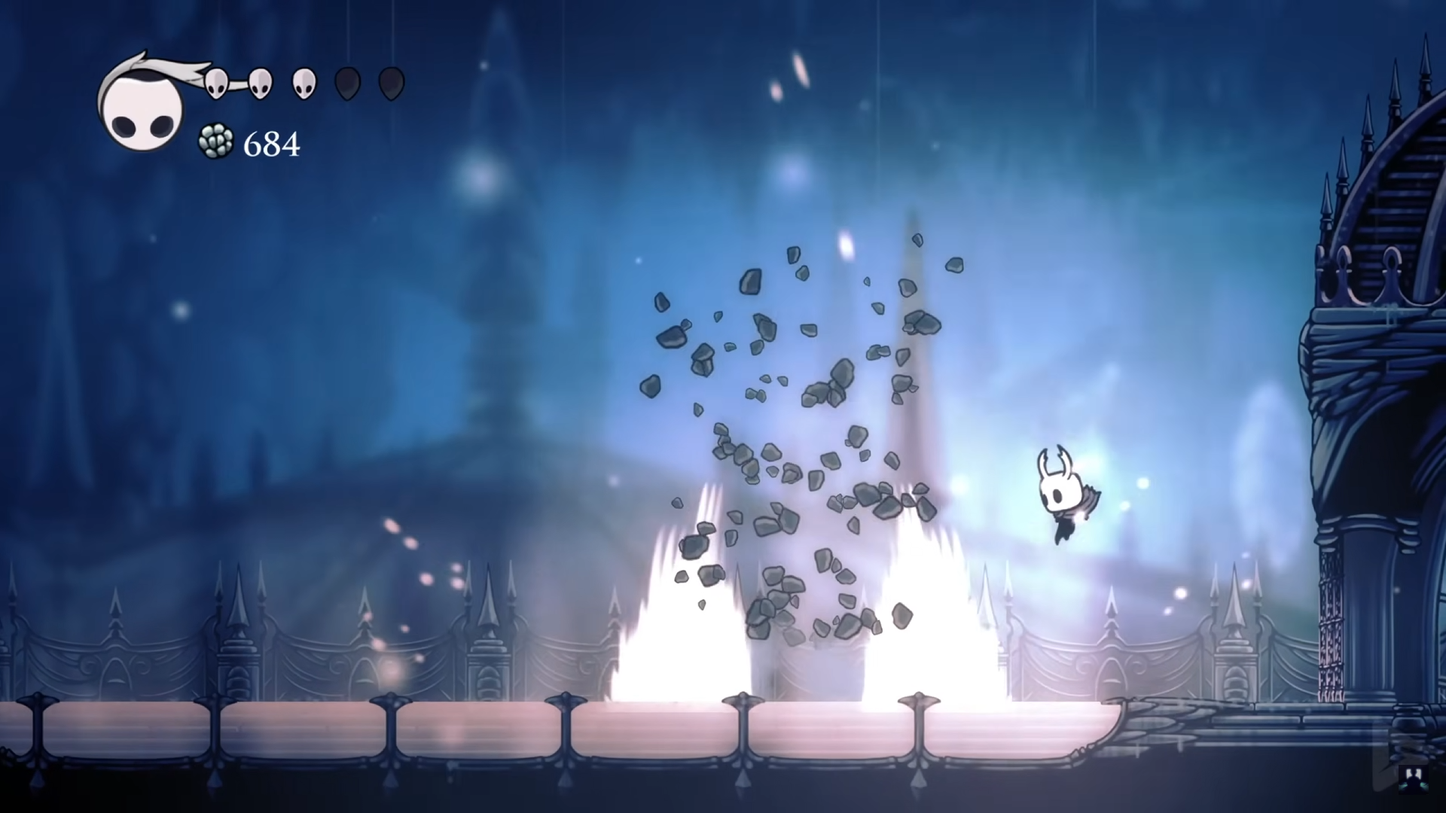HK: (1033, 438, 1097, 550)
